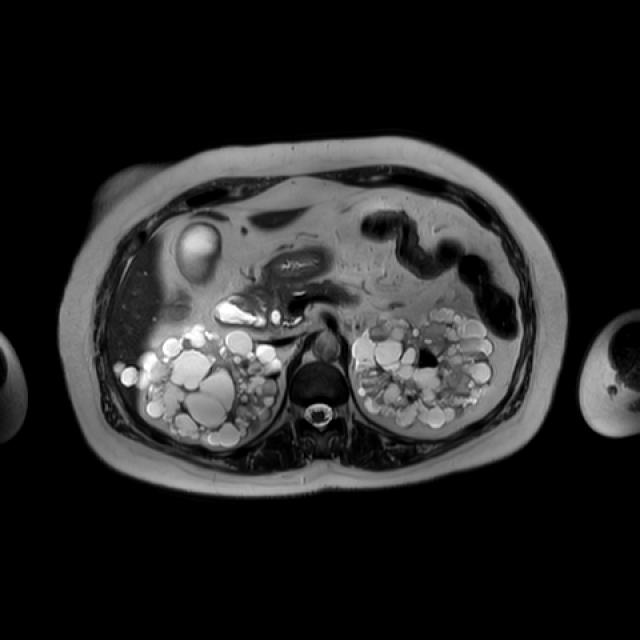sag: (138, 327, 285, 447)
sol: (352, 308, 494, 428)
